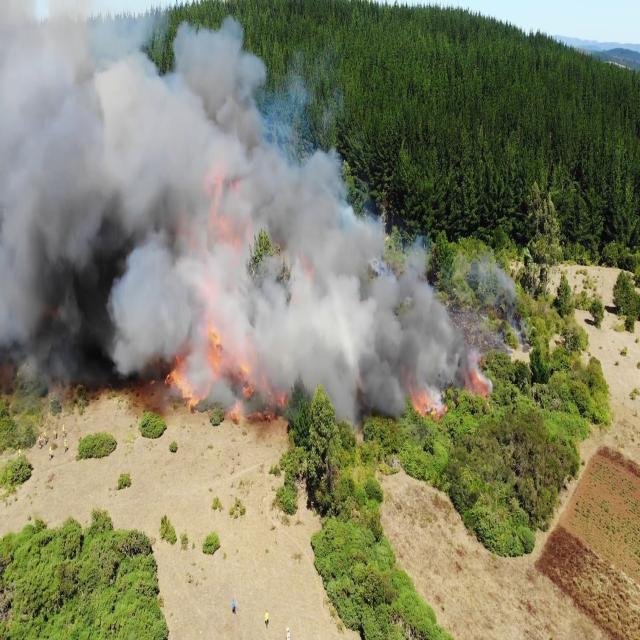Smoke: (0, 1, 261, 404), (255, 121, 464, 422)
